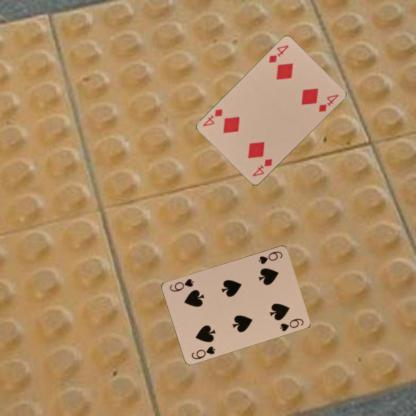4d: (250, 156, 273, 178), (266, 43, 290, 64)
6s: (189, 343, 217, 361), (256, 249, 284, 266)
